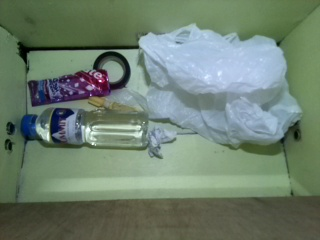bottle: (20, 107, 149, 149)
paper: (144, 127, 179, 159)
plastic-bag: (138, 21, 303, 150)
